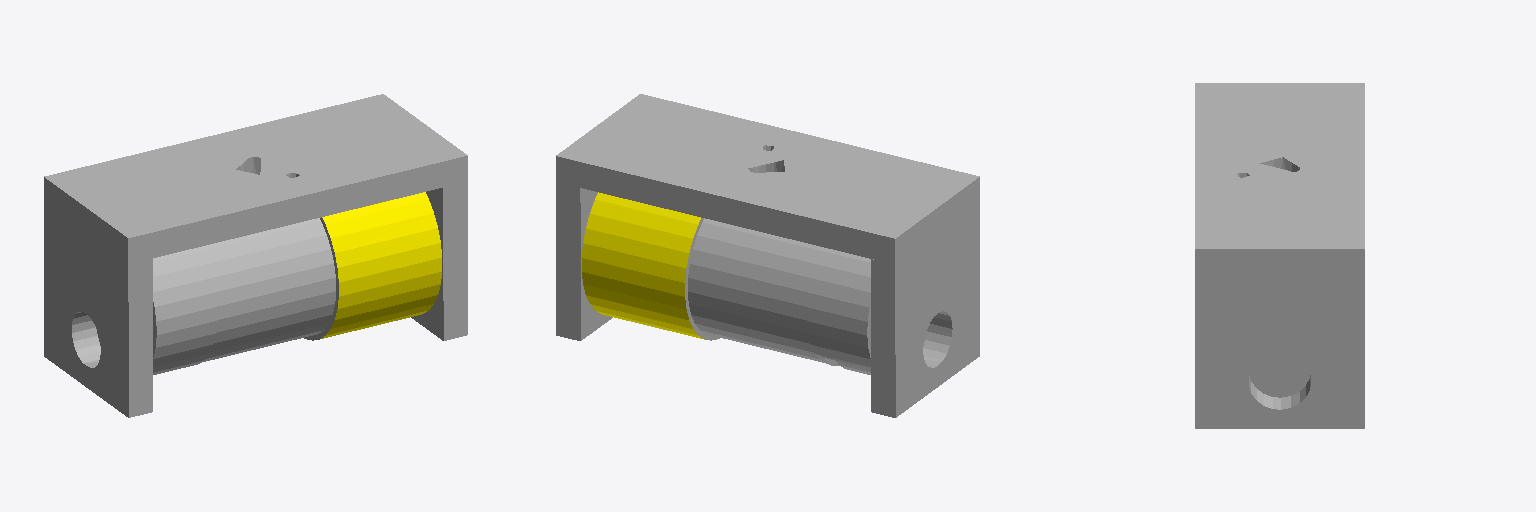
The model's file is roll1.obj.
3 renders of one model, left to right at view 1: azimuth 30°, elevation 25°; view 2: azimuth 150°, elevation 25°; view 3: azimuth 270°, elevation 25°, orthographic.
Parts seen in each view (by area): view 1: Object.1; view 2: Object.1; view 3: Object.1.
Boxes of the visible parts, <box> form: Object.1: <box>44,94,467,417</box>; Object.1: <box>556,94,979,417</box>; Object.1: <box>1195,83,1364,428</box>.
Bounding box in the file's own units: 87 × 44.03 × 37.69.